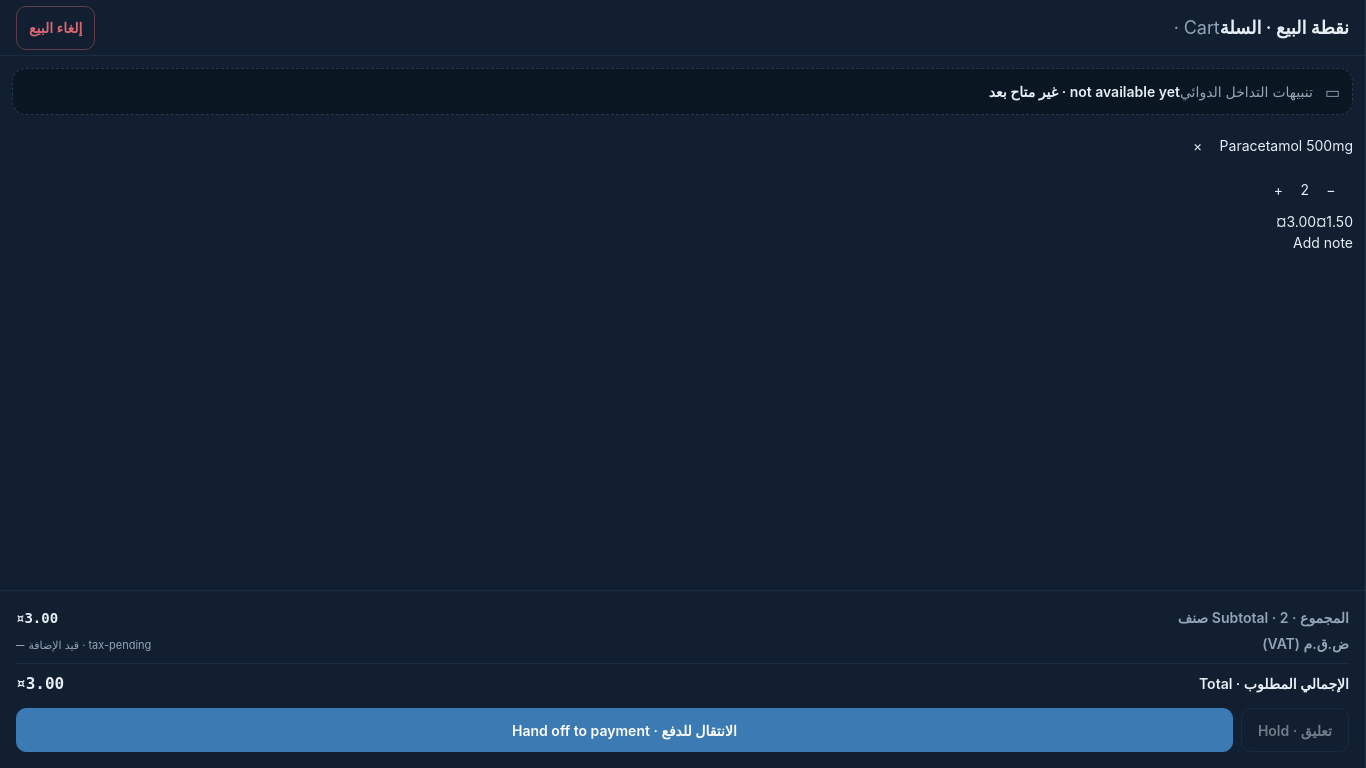
Test: CartPane handoff — refusal response › shows generic error copy when bridge returns a refusal
This screenshot has width=1366, height=768.
Click the button with test id "cart-handoff-button" at (624,730), box [16,708,1233,752]
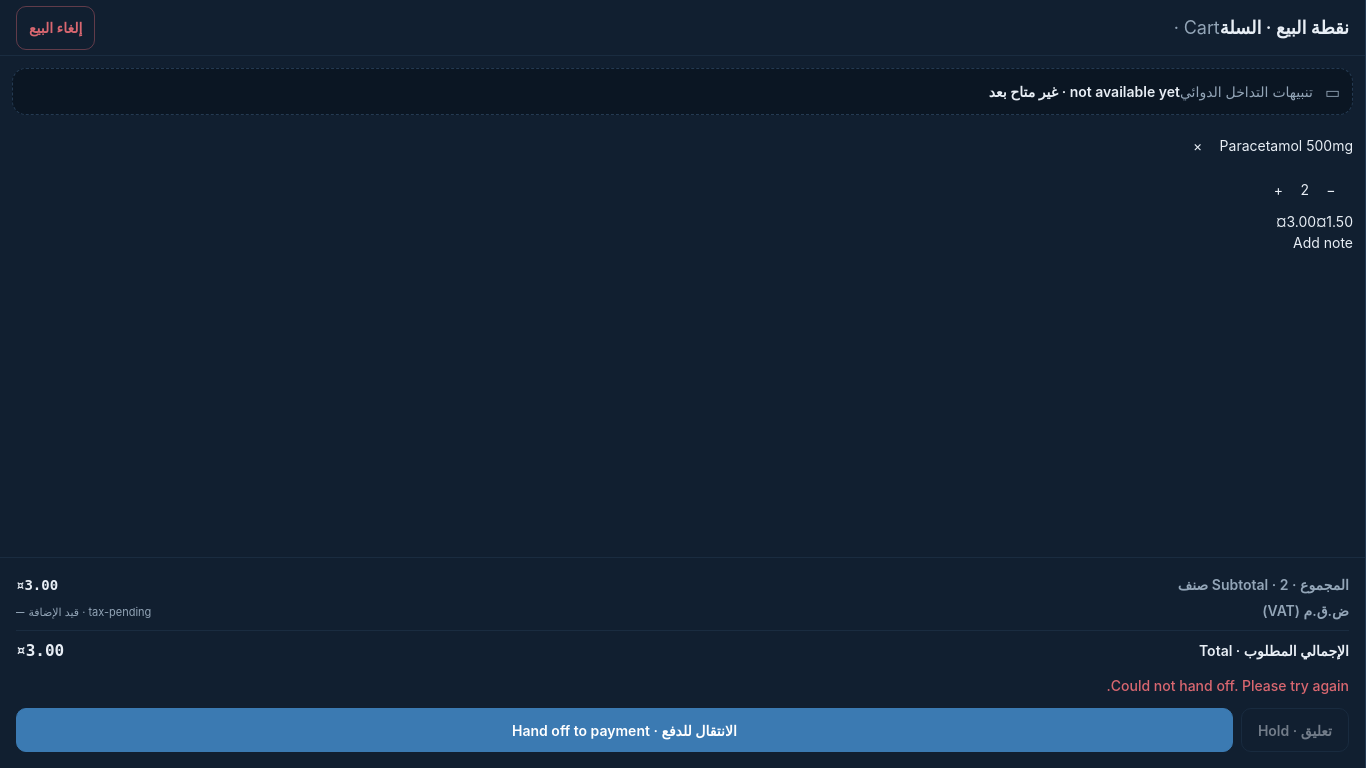
Expected: the message with test id "cart-handoff-error" shows "Could not hand off", [1106,677,1349,694]
